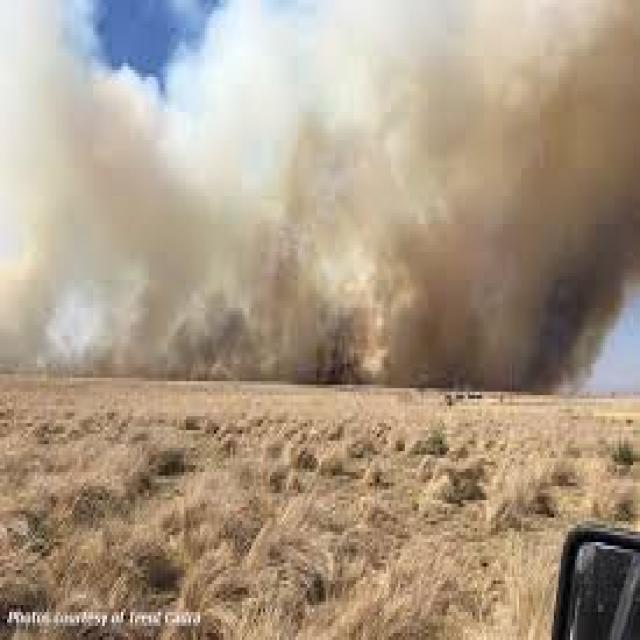Smoke: (220, 0, 512, 377), (0, 0, 221, 381), (495, 0, 640, 393)
